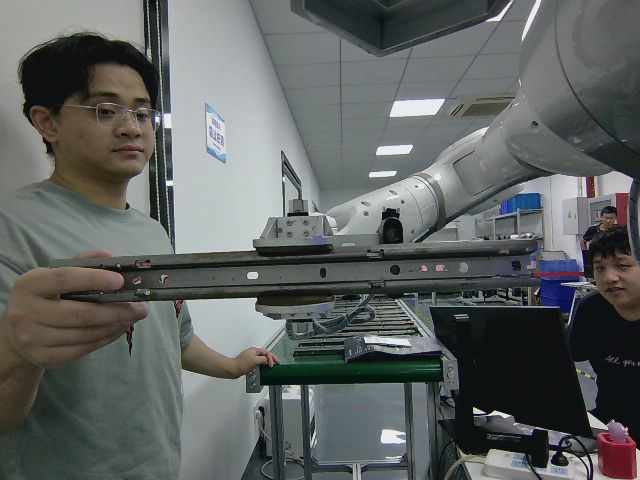left: (122, 239, 542, 303)
